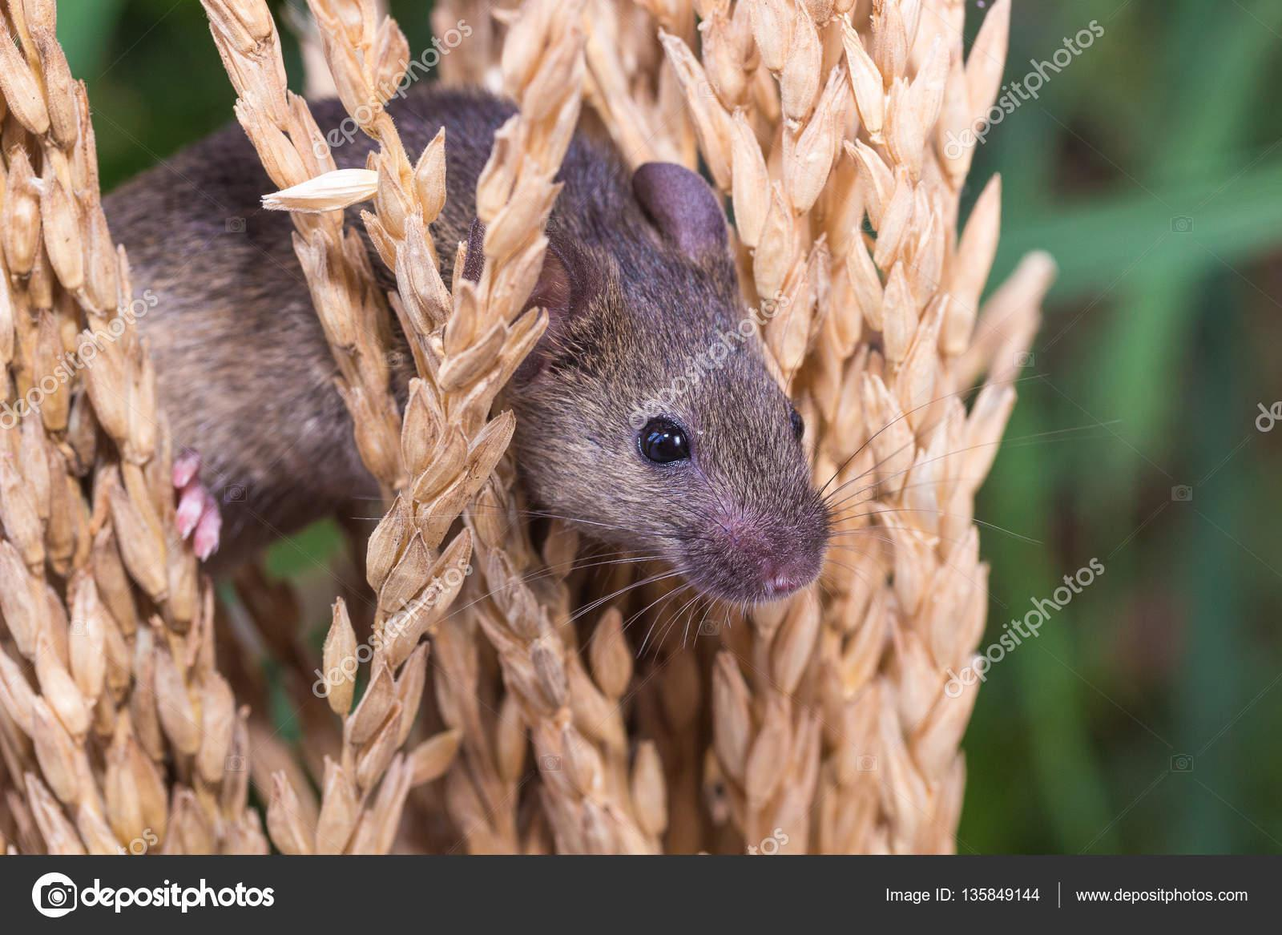rat: (105, 98, 836, 605)
